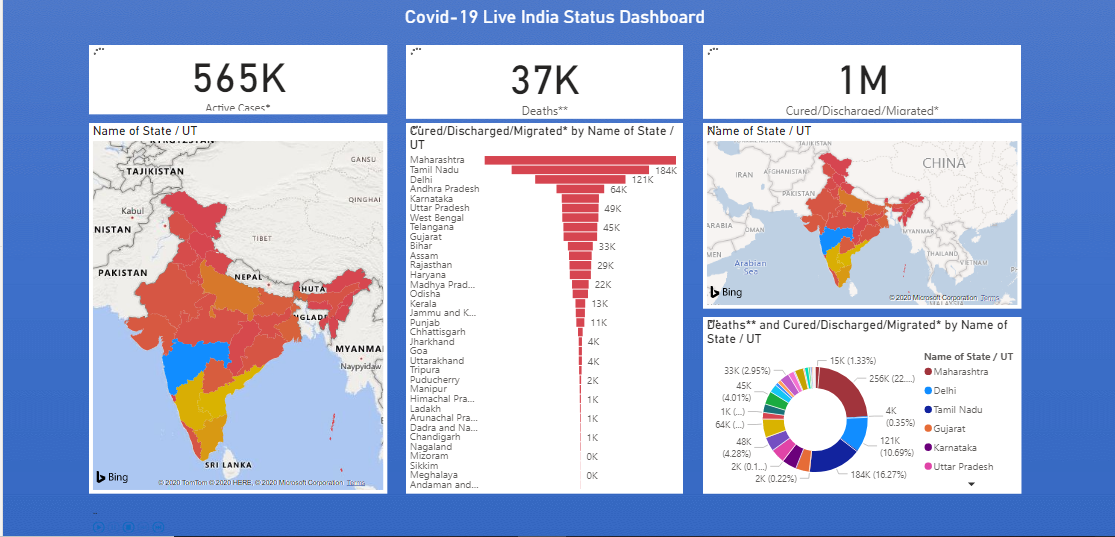

Layout of this report page (visuals, bound fields, positions):
{"tool":"powerbi","page":{"name":"Page 1","canvas":[1280,720],"ordinal":0},"visuals":[{"type":"filledMap","fields":{"Category":["Table 1.Name of State / UT"]},"box":[9.9,166.3,400.1,497.4],"z":0},{"type":"filledMap","fields":{"Category":["Table 1.Name of State / UT"]},"box":[832.7,166.3,426.9,249.4],"z":1000},{"type":"funnel","fields":{"Y":["Sum(Table 1.Cured/Discharged/Migrated*)"],"Category":["Table 1.Name of State / UT"]},"box":[434,166.3,372,497.4],"z":2000},{"type":"textbox","title":"Covid-19 Live India Status Dashboard","box":[9.9,11.3,1249.8,35.2],"z":3000},{"type":"donutChart","fields":{"Y":["Sum(Table 1.Deaths**)","Sum(Table 1.Cured/Discharged/Migrated*)"],"Category":["Table 1.Name of State / UT"]},"box":[832.7,426.9,426.9,236.7],"z":4000},{"type":"card","fields":{"Values":["Sum(Table 1.Active Cases*)"]},"box":[9.9,62,400.1,93],"z":5000},{"type":"card","fields":{"Values":["Sum(Table 1.Cured/Discharged/Migrated*)"]},"box":[832.7,62,426.9,98.6],"z":6000},{"type":"card","fields":{"Values":["Sum(Table 1.Deaths**)"]},"box":[434,62,372,98.6],"z":7000},{"type":"PBI_CV_16948668_E17D_454B_8664_2F2C470EA8C1","fields":{"category":["Table 1.Name of State / UT"]},"box":[9.9,674.9,400.1,45.1],"z":7001}]}

Visuals, with their boxes on the page's 1280x720 design canvas (x1, y1, x2, y2). These are canvas units, not pixel positions in the 1115x537 screenshot, which may show the page scaled, cropped or inside an application window:
filledMap - Table 1.Name of State / UT: <box>10,166,410,664</box>
filledMap - Table 1.Name of State / UT: <box>833,166,1260,416</box>
funnel - Sum(Table 1.Cured/Discharged/Migrated*) x Table 1.Name of State / UT: <box>434,166,806,664</box>
"Covid-19 Live India Status Dashboard" textbox: <box>10,11,1260,46</box>
donutChart - Sum(Table 1.Deaths**) x Sum(Table 1.Cured/Discharged/Migrated*): <box>833,427,1260,664</box>
card - Sum(Table 1.Active Cases*): <box>10,62,410,155</box>
card - Sum(Table 1.Cured/Discharged/Migrated*): <box>833,62,1260,161</box>
card - Sum(Table 1.Deaths**): <box>434,62,806,161</box>
PBI_CV_16948668_E17D_454B_8664_2F2C470EA8C1 - Table 1.Name of State / UT: <box>10,675,410,720</box>
